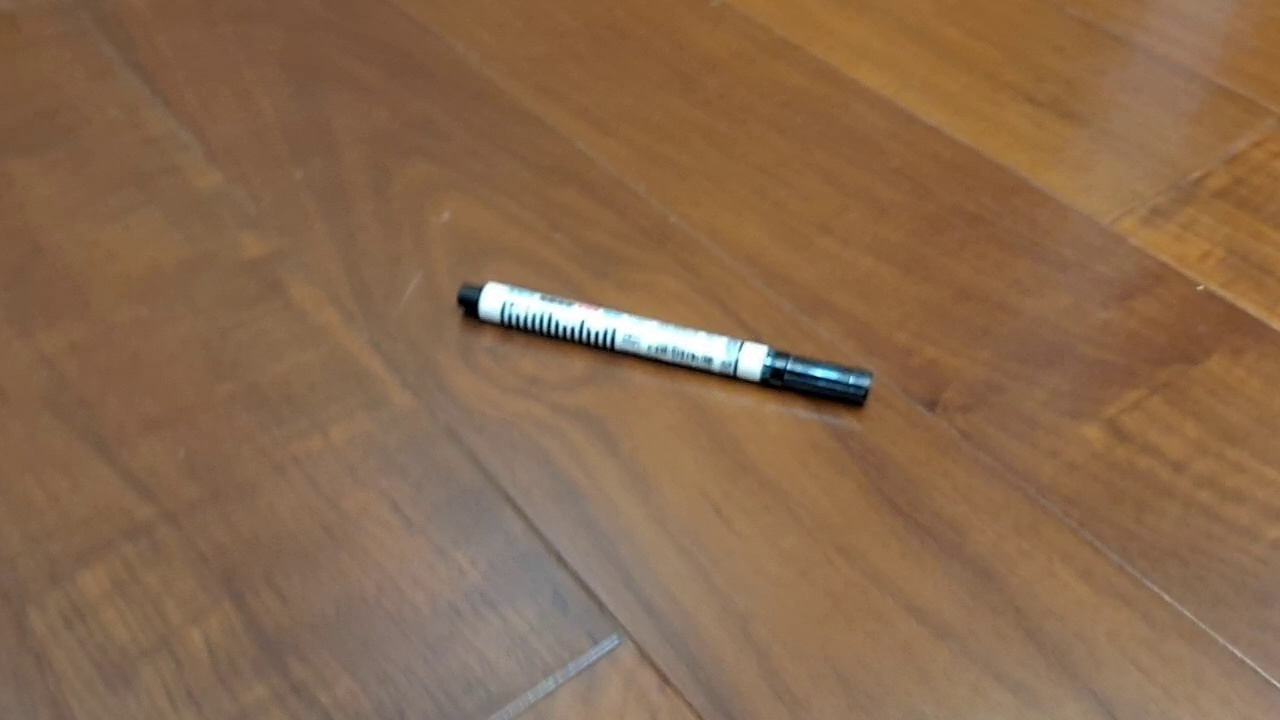pen: (457, 279, 874, 408)
